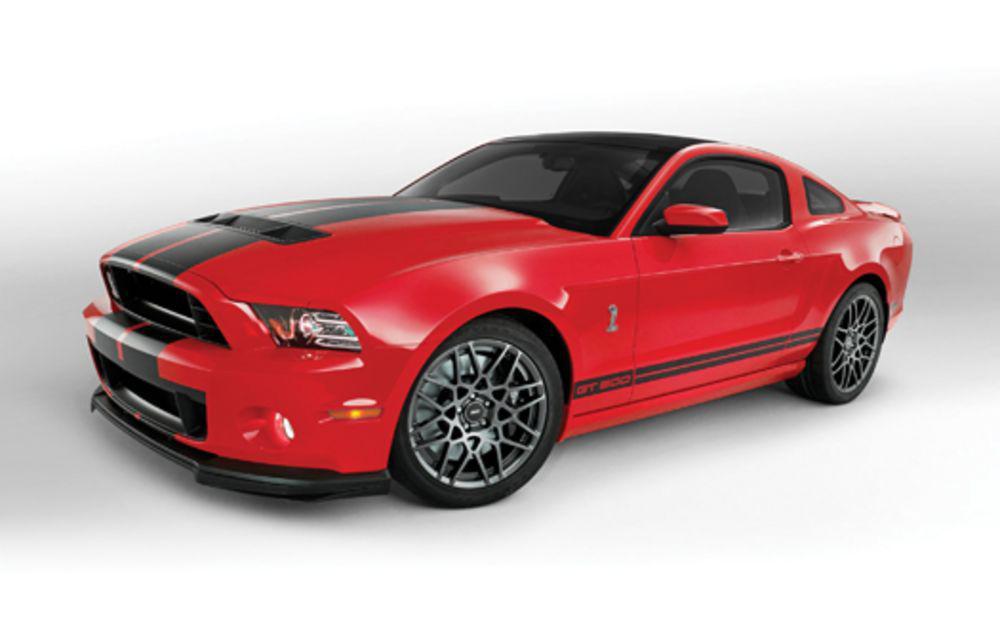car: (48, 125, 949, 536)
